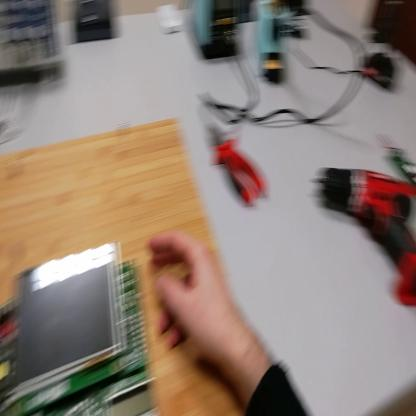electric screwdriver: (318, 165, 416, 305)
electric screwdriver battery: (366, 52, 396, 88)
hand: (150, 229, 236, 361)
high voltage board: (377, 135, 416, 181)
low voltage board: (1, 235, 176, 416)
oscilloscope: (2, 1, 63, 86)
pliers: (208, 125, 267, 207)
socket: (237, 1, 257, 26)
welder base: (257, 4, 290, 86)
welder probe tip: (275, 17, 296, 33)
welder station: (189, 5, 241, 58)
working area: (2, 124, 244, 414)
